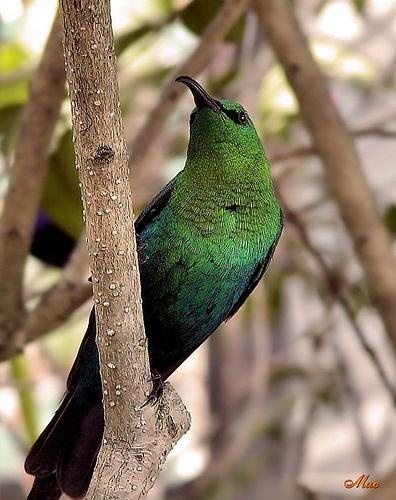bird: (26, 78, 285, 500)
